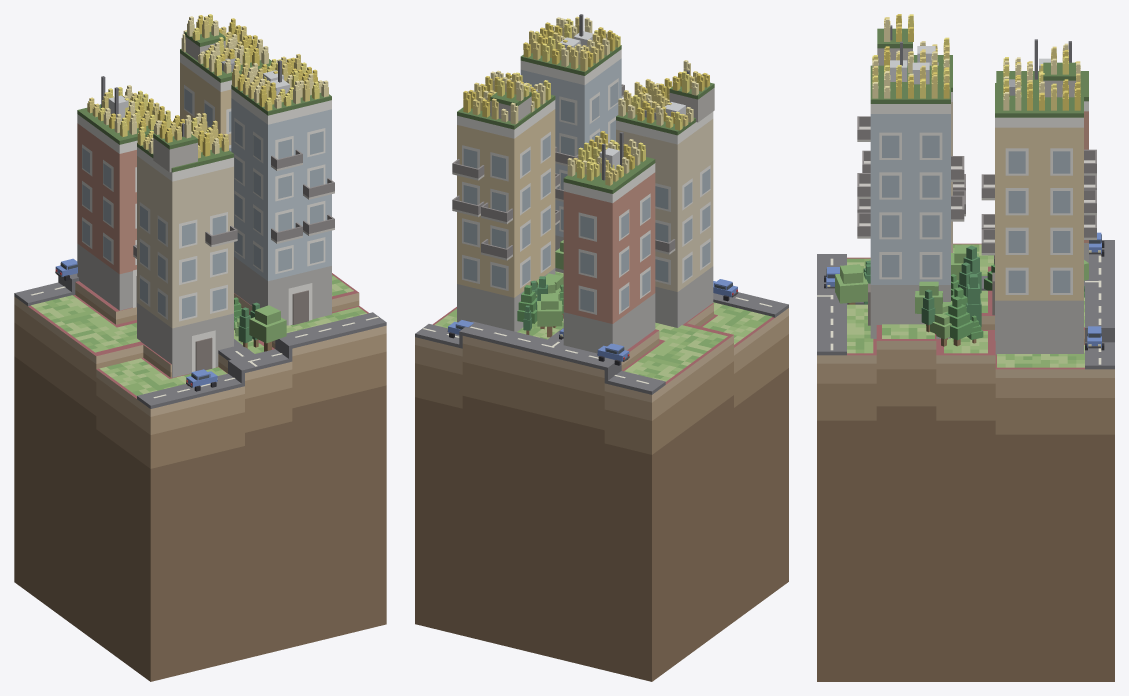
Rendered from block_24_urbanfarm_50.glb.
3 renders of one model, left to right at view 1: azimuth 30°, elevation 25°; view 2: azimuth 150°, elevation 25°; view 3: azimuth 270°, elevation 25°, orthographic. The views are drawn at different scales.
Visible parts, largest first — view 1: Patch_UpperRight_b24_UF, ResidBldgs_b24_UF, Green_UpperRight_b24_UF, Roads_UpperRight_b24_UF, UFR_ResidBldgs_b24_UF, URTree_24_17_UF; view 2: Patch_UpperRight_b24_UF, ResidBldgs_b24_UF, Roads_UpperRight_b24_UF, Green_UpperRight_b24_UF, UFR_ResidBldgs_b24_UF, URTree_24_0_UF; view 3: Patch_UpperRight_b24_UF, ResidBldgs_b24_UF, Roads_UpperRight_b24_UF, UFR_ResidBldgs_b24_UF, Green_UpperRight_b24_UF, URTree_24_17_UF, URTree_24_28_UF, URTree_24_25_UF, URTree_24_19_UF, URTree_24_20_UF.
Boxes of the visible parts, x1,y1,x2,y2 form: Patch_UpperRight_b24_UF: (14,273,386,681); ResidBldgs_b24_UF: (77,36,334,377); Green_UpperRight_b24_UF: (31,275,366,395); Roads_UpperRight_b24_UF: (14,273,386,408); UFR_ResidBldgs_b24_UF: (77,31,331,172); URTree_24_17_UF: (249,305,286,351); Patch_UpperRight_b24_UF: (415,303,788,681); ResidBldgs_b24_UF: (452,14,714,353); Roads_UpperRight_b24_UF: (415,292,788,394); Green_UpperRight_b24_UF: (435,271,772,381); UFR_ResidBldgs_b24_UF: (457,45,714,193); URTree_24_0_UF: (537,293,562,337); Patch_UpperRight_b24_UF: (817,243,1114,681); ResidBldgs_b24_UF: (857,25,1096,354); Roads_UpperRight_b24_UF: (817,240,1114,369); UFR_ResidBldgs_b24_UF: (870,28,1088,117); Green_UpperRight_b24_UF: (847,244,1084,367); URTree_24_17_UF: (835,264,868,304); URTree_24_28_UF: (944,296,973,346); URTree_24_25_UF: (915,281,942,325); URTree_24_19_UF: (966,274,981,326); URTree_24_20_UF: (930,311,951,346).
Bounding box in the file's own units: 9.5 × 21.24 × 9.5.
